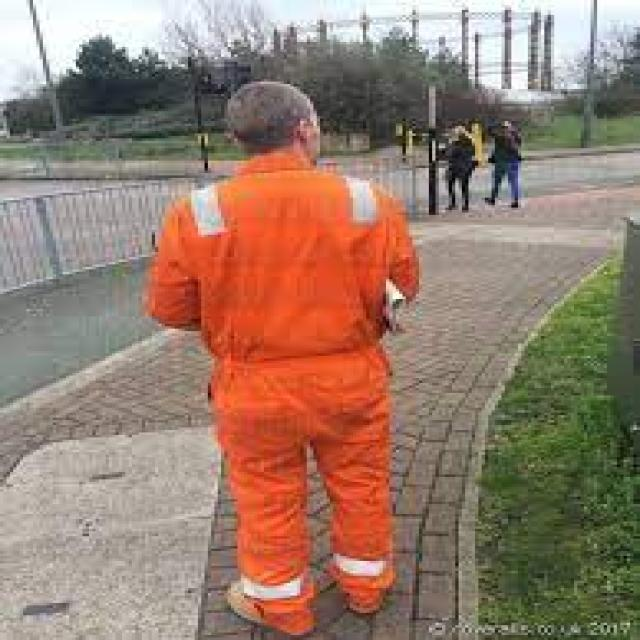vest: (149, 152, 420, 626)
